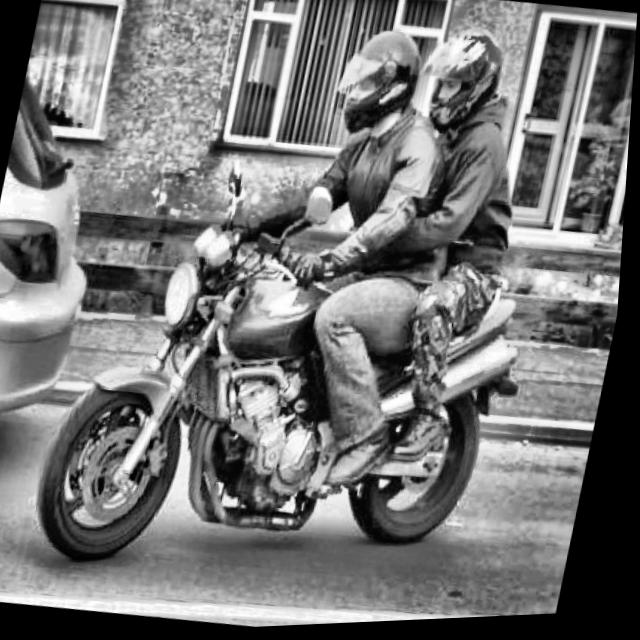motorcycle: (26, 190, 557, 622)
